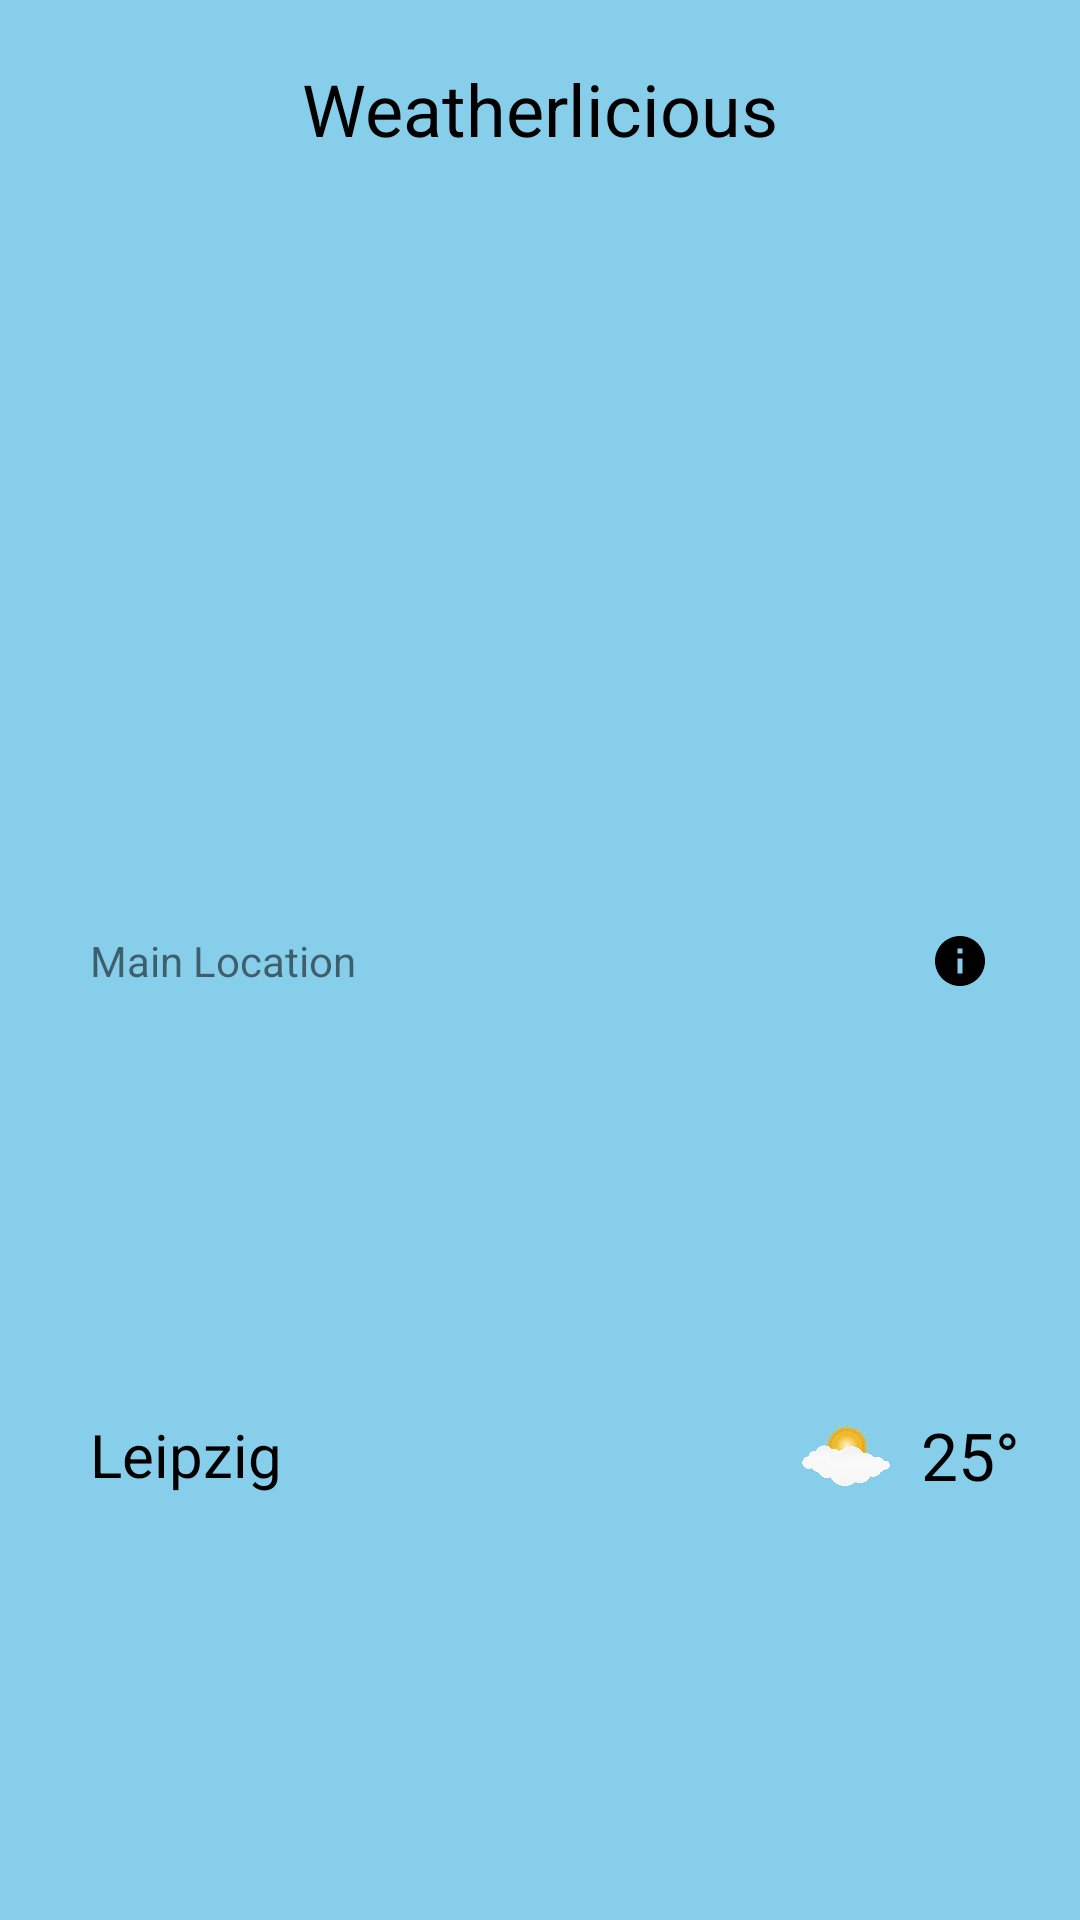

Where icons sit on this 1080*1920 app screen, as (x1=x1, y1=y1, x2=x2, y2=y2):
info: (x1=935, y1=936, x2=985, y2=986)
